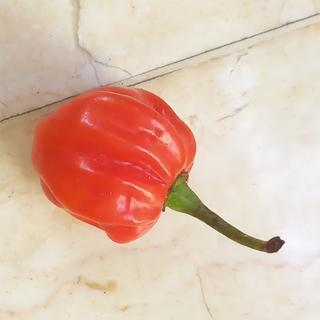Grade-B: (26, 79, 204, 247)
